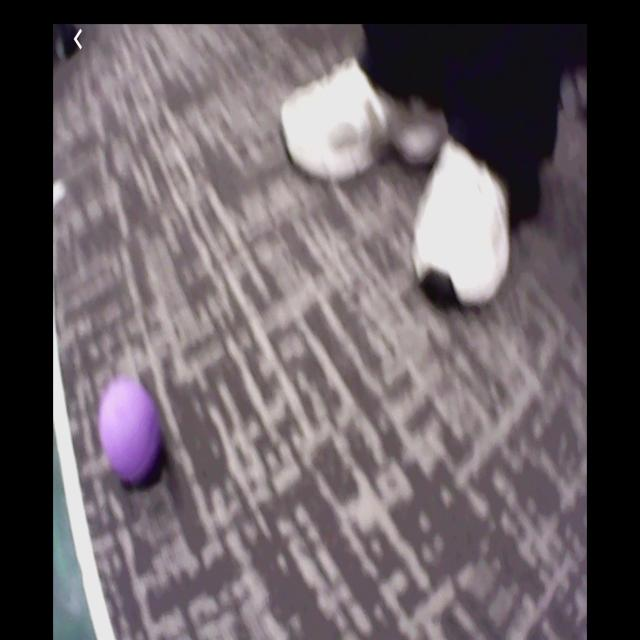ball: (99, 382, 162, 481)
